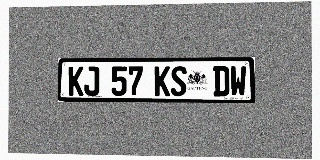5: (111, 66, 127, 96)
7: (127, 66, 143, 96)
D: (213, 66, 229, 96)
J: (84, 66, 99, 96)
K: (154, 66, 170, 96), (68, 66, 83, 96)
S: (171, 66, 187, 96)
W: (230, 66, 246, 96)
